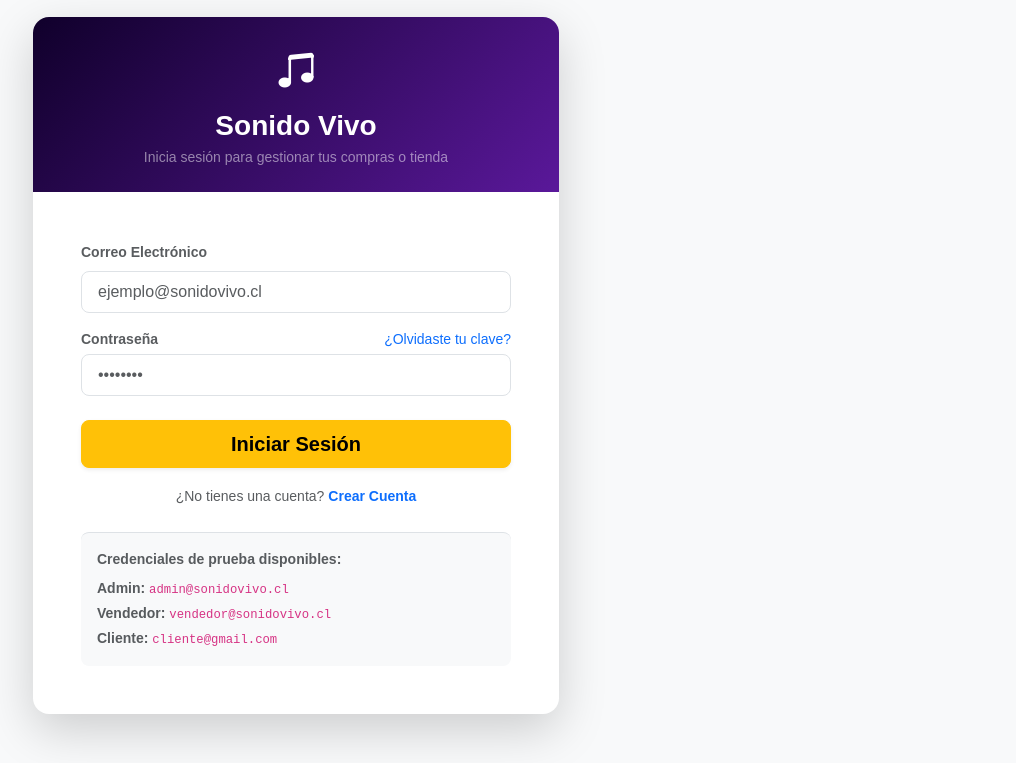
Test: Pruebas Unitarias: Página de Login e Interacción de Usuario › 11. Login: muestra error si el correo no está registrado
Type "noexiste@correo.cl" into the field labelled "Correo Electrónico".
click(296, 292); type("noexiste@correo.cl")  # box [81,271,511,313]
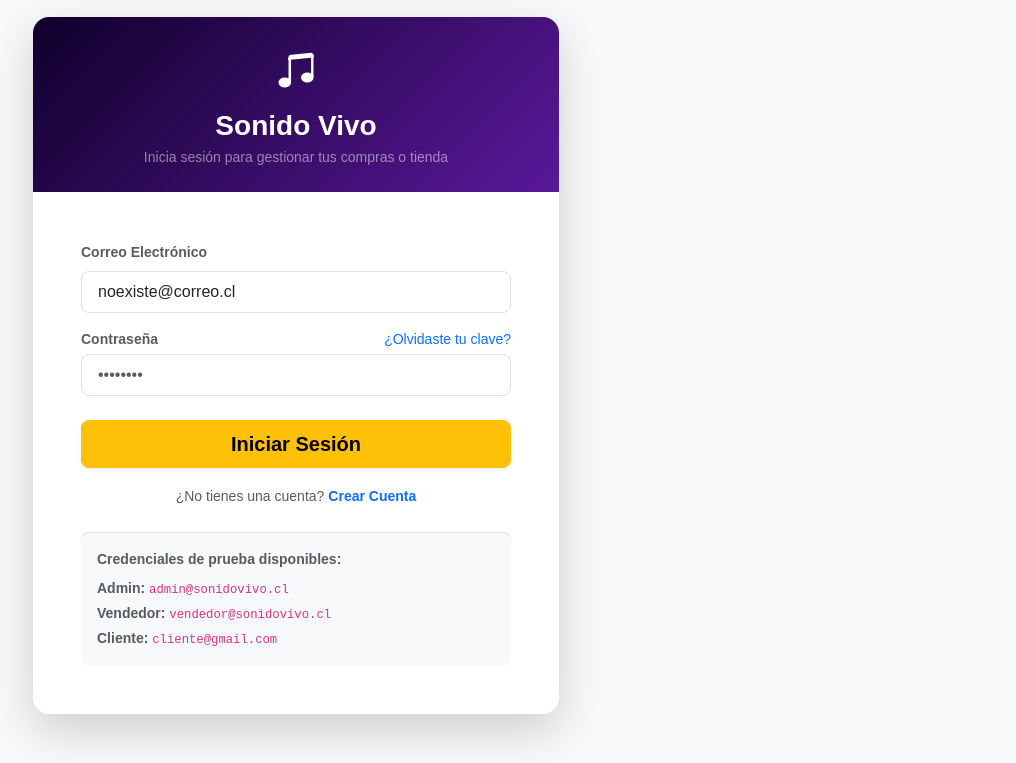
Type "123456" into the password field labelled "Contraseña".
click(296, 375); type("123456")  # box [81,354,511,396]
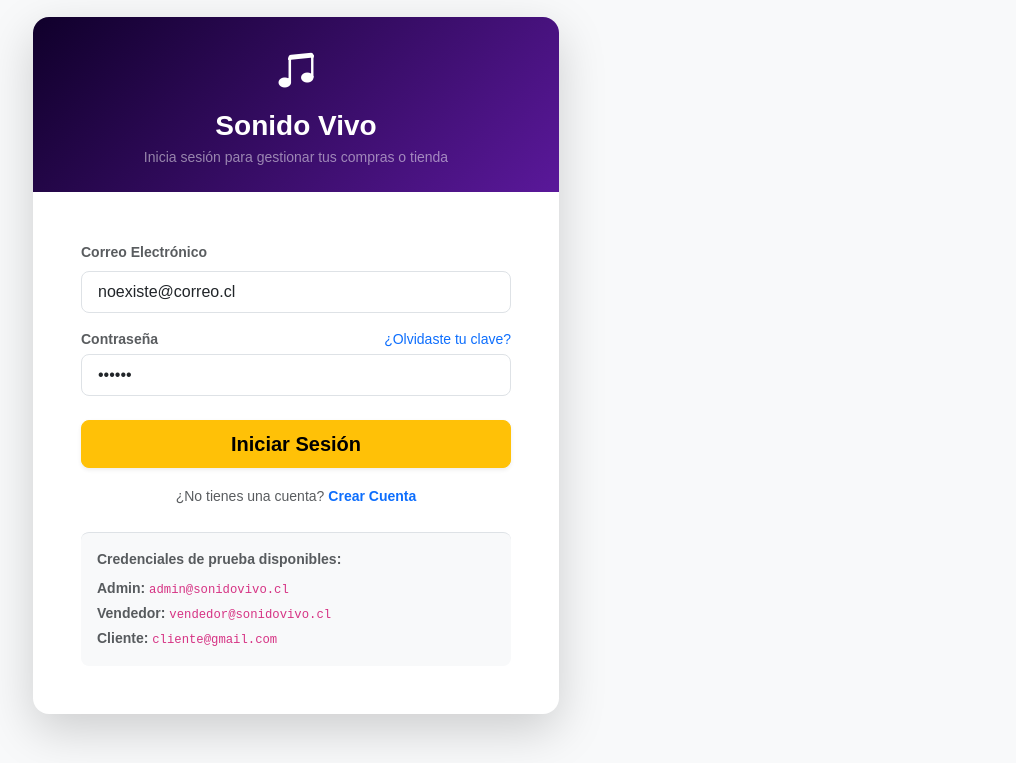
Click the button "Iniciar Sesión".
click(296, 444)  # box [81,420,511,468]
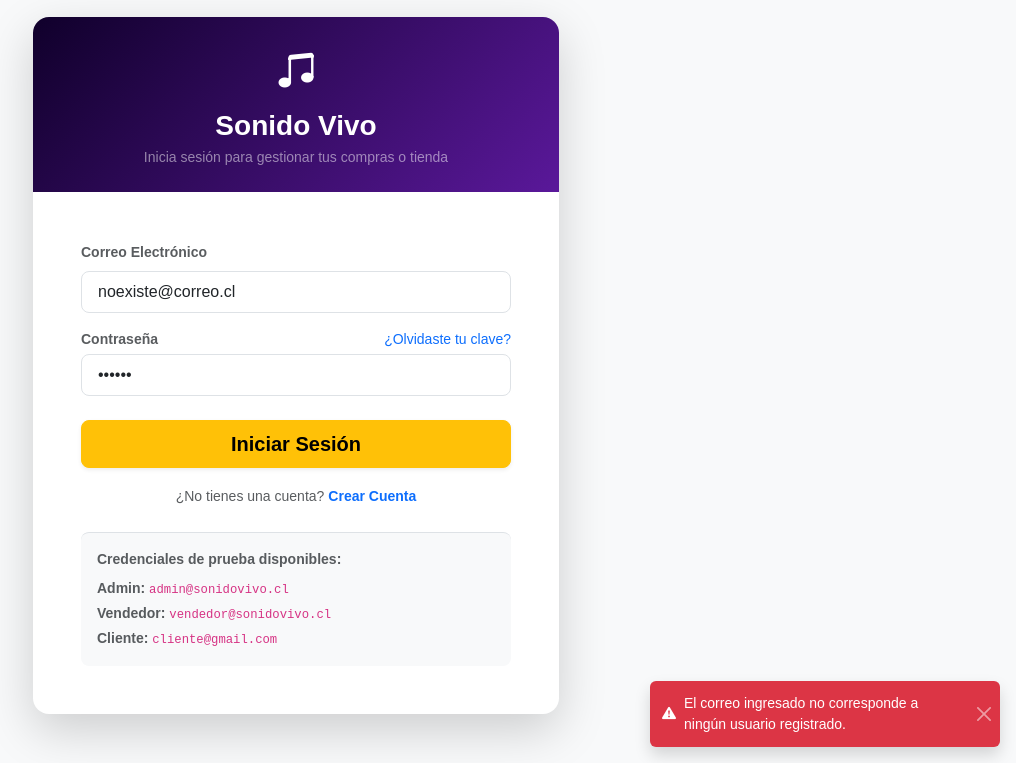
Expected: the text "El correo ingresado no corresponde a ningún usuario registrado." is shown, [684,695,918,732]
